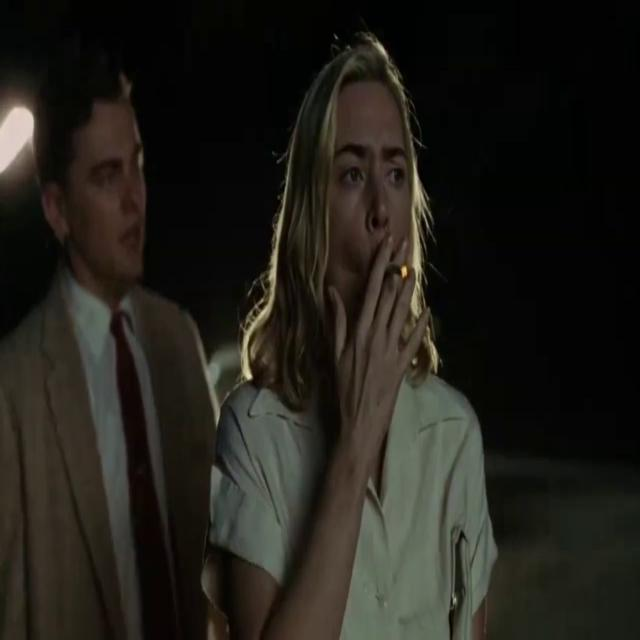Smooking: (390, 255, 410, 285)
